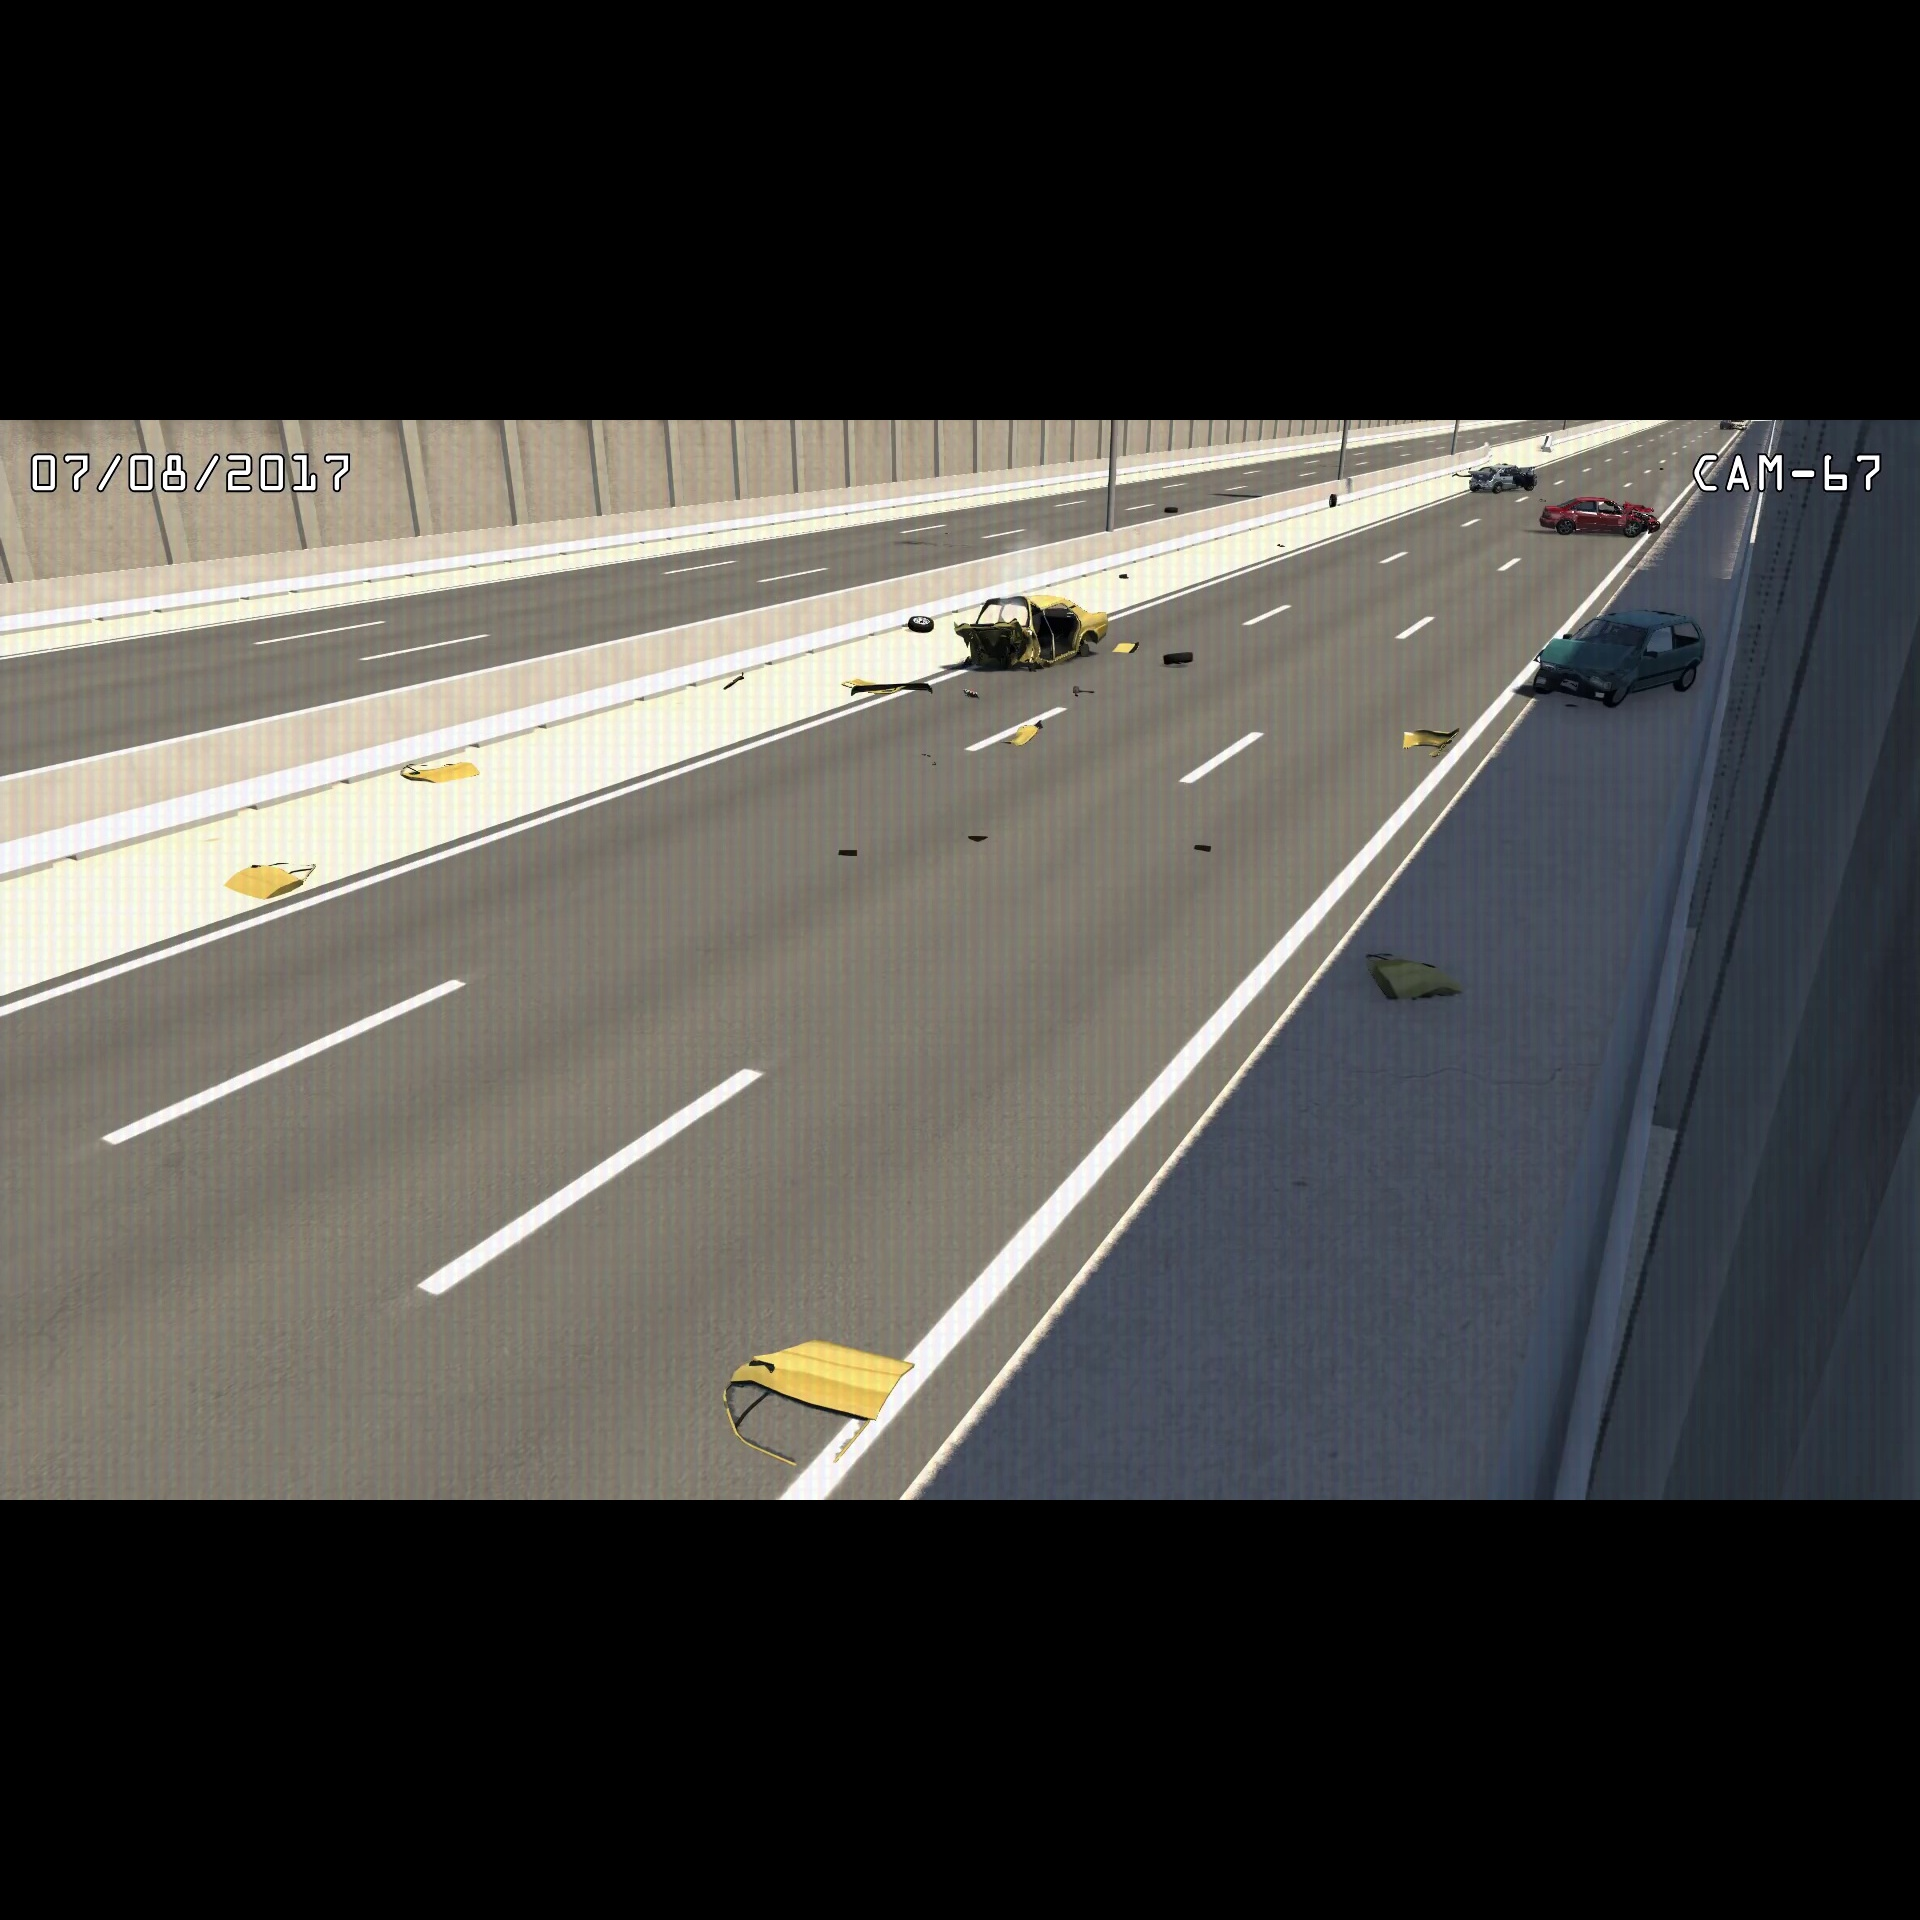vehicle: (1531, 598, 1727, 714), (946, 587, 1120, 680), (1533, 491, 1669, 545), (1468, 457, 1545, 501)
